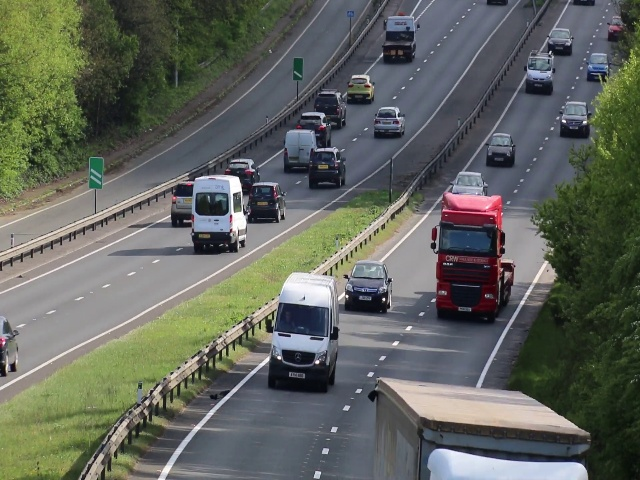car: (430, 219, 512, 326), (269, 294, 339, 392), (191, 174, 245, 251), (343, 260, 391, 315), (379, 13, 418, 60), (248, 182, 287, 225), (308, 147, 345, 190), (1, 309, 23, 372), (372, 105, 406, 139), (168, 182, 192, 225), (284, 128, 307, 170), (344, 72, 377, 101), (487, 131, 514, 166), (528, 56, 552, 93), (561, 103, 589, 134), (547, 27, 574, 54), (455, 171, 486, 193), (585, 52, 608, 78), (315, 93, 342, 112), (225, 159, 255, 175), (300, 113, 322, 126)
